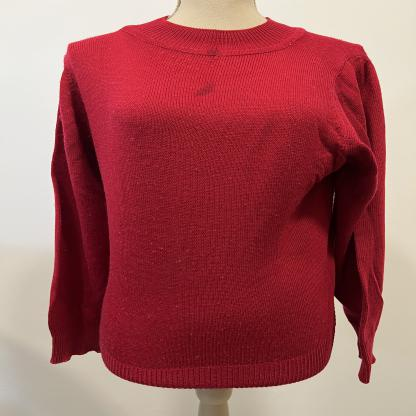stain: (200, 97, 213, 111)
